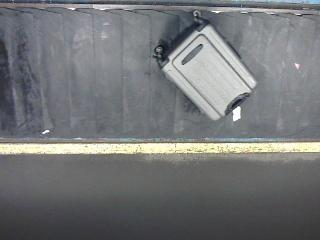Suitcase: (157, 6, 260, 128)
